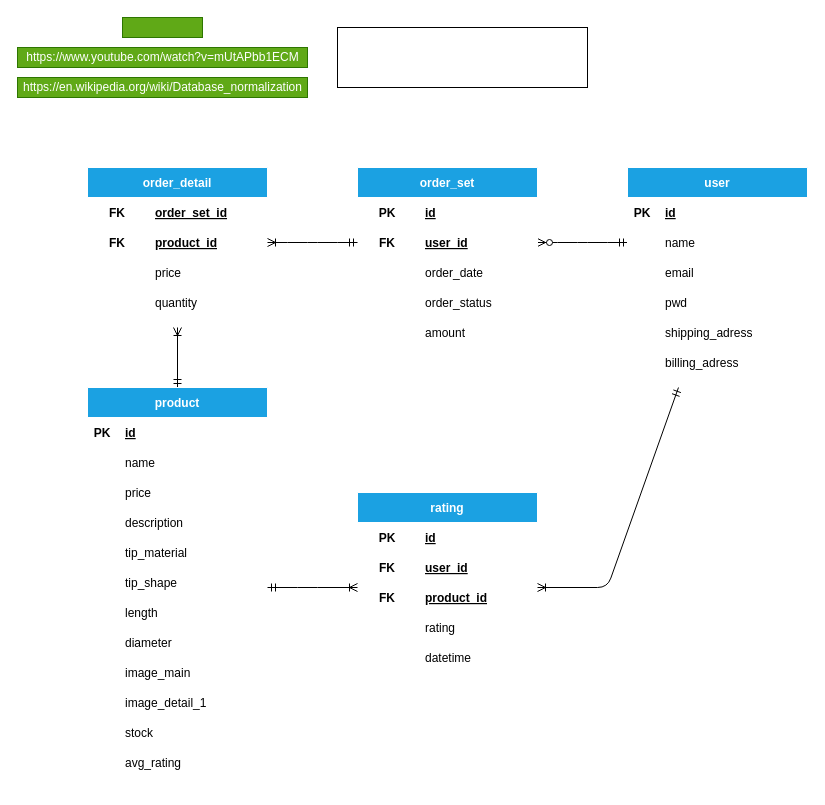
This 825x805 diagram has some shape labels left out. Each missing label, with the centre of its shape:
Entity-relationship diagram (ERD): the point at 462,57
SOURCES:: the point at 162,27
